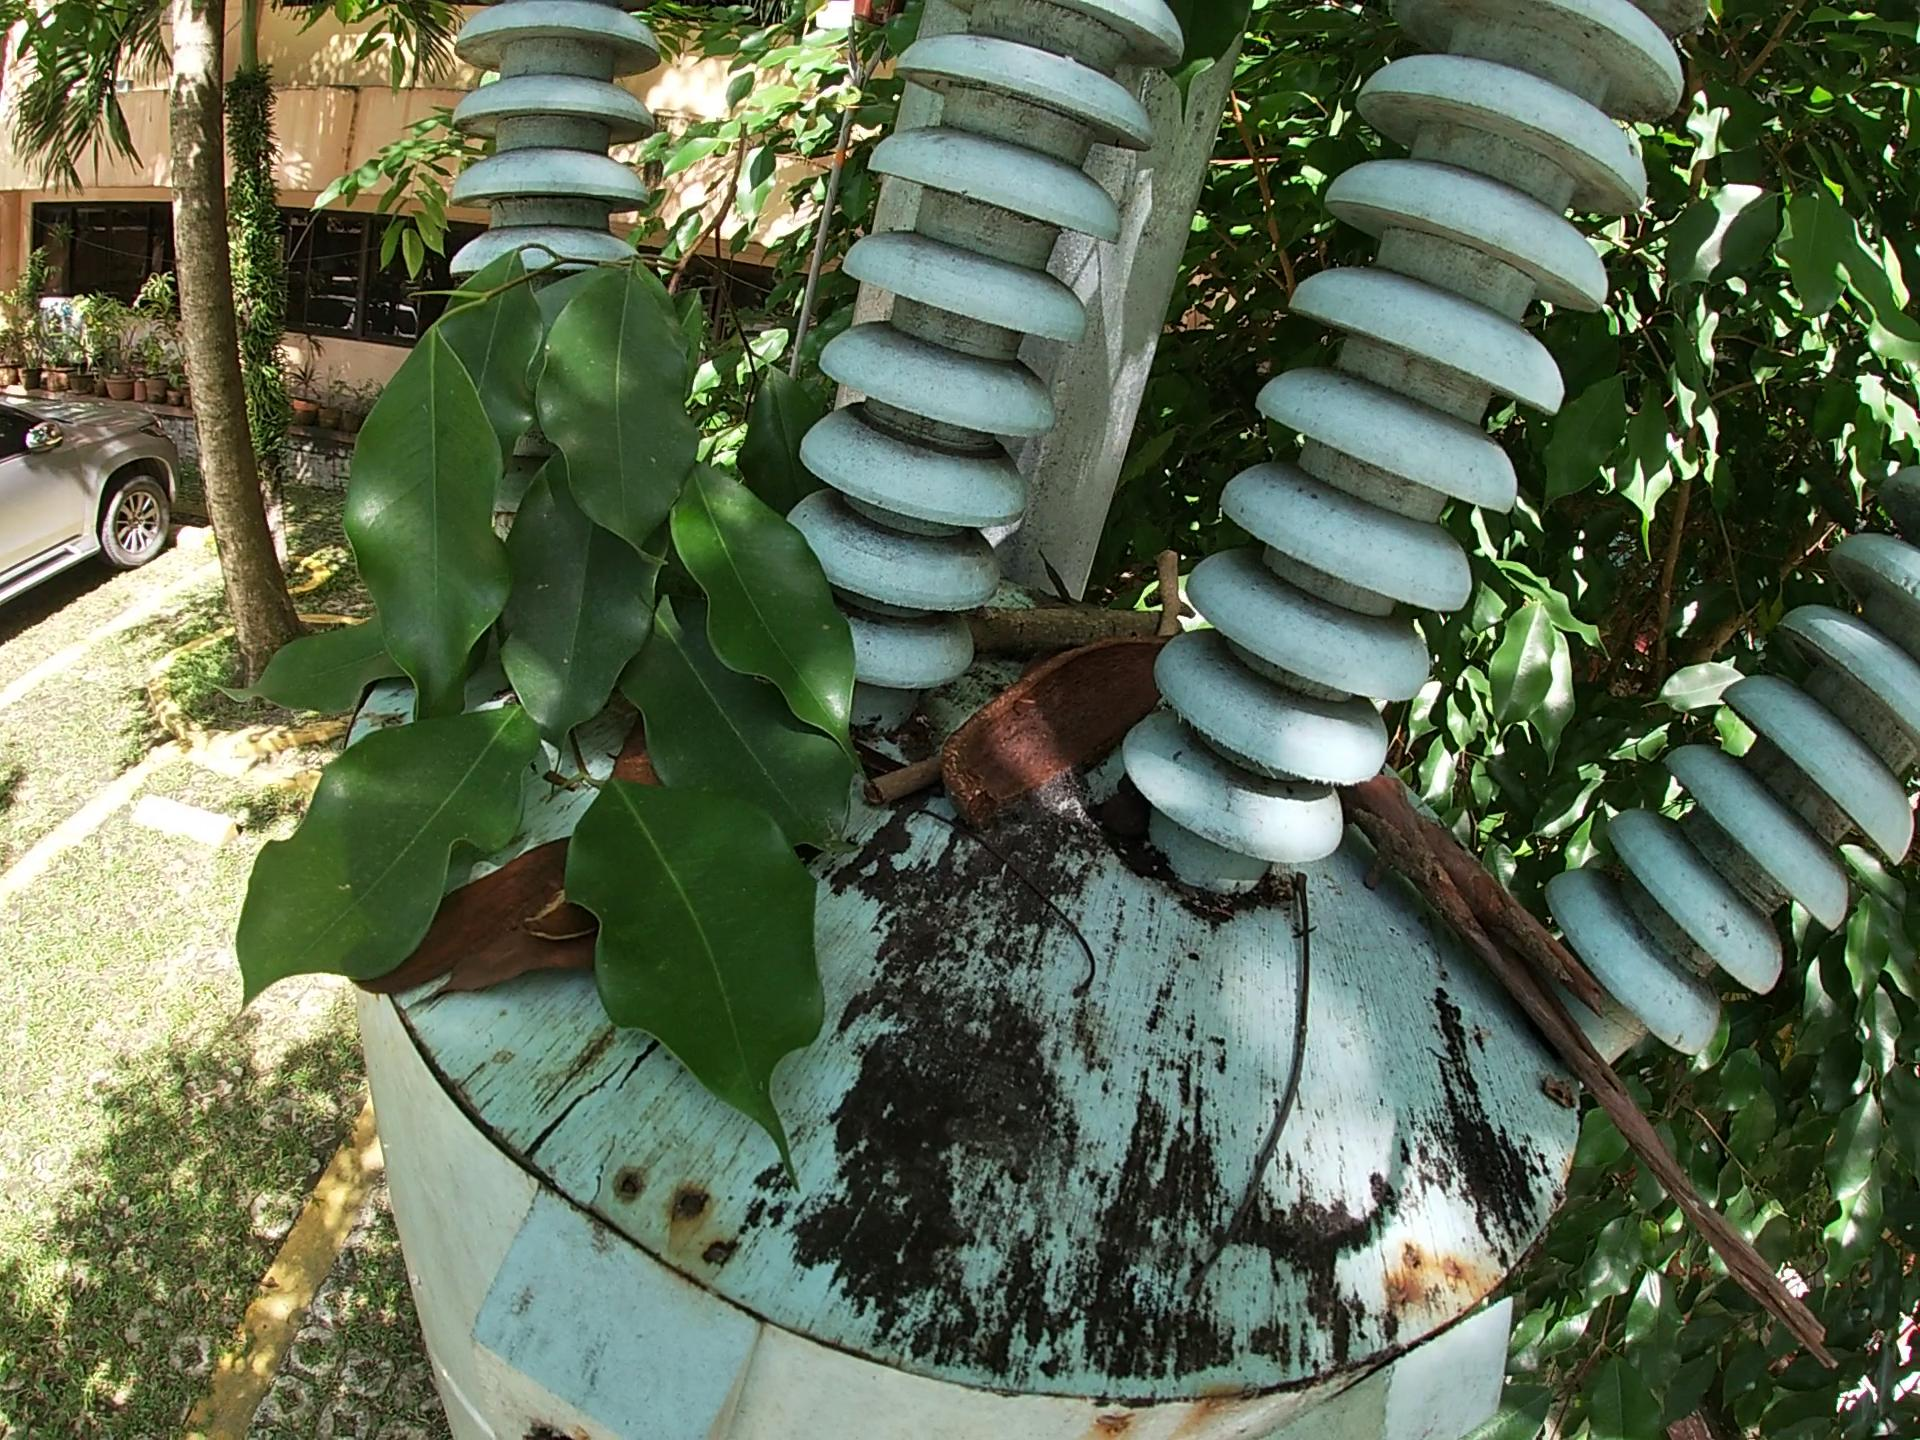branch with leaves: (213, 144, 880, 1230)
leaf: (426, 917, 605, 1010)
mahogany fruit: (355, 821, 612, 989), (937, 644, 1163, 824)
tree branch: (1335, 749, 1866, 1379), (1175, 867, 1330, 1314), (915, 815, 1101, 1006), (949, 601, 1164, 679), (863, 746, 949, 809), (1150, 542, 1181, 646)
